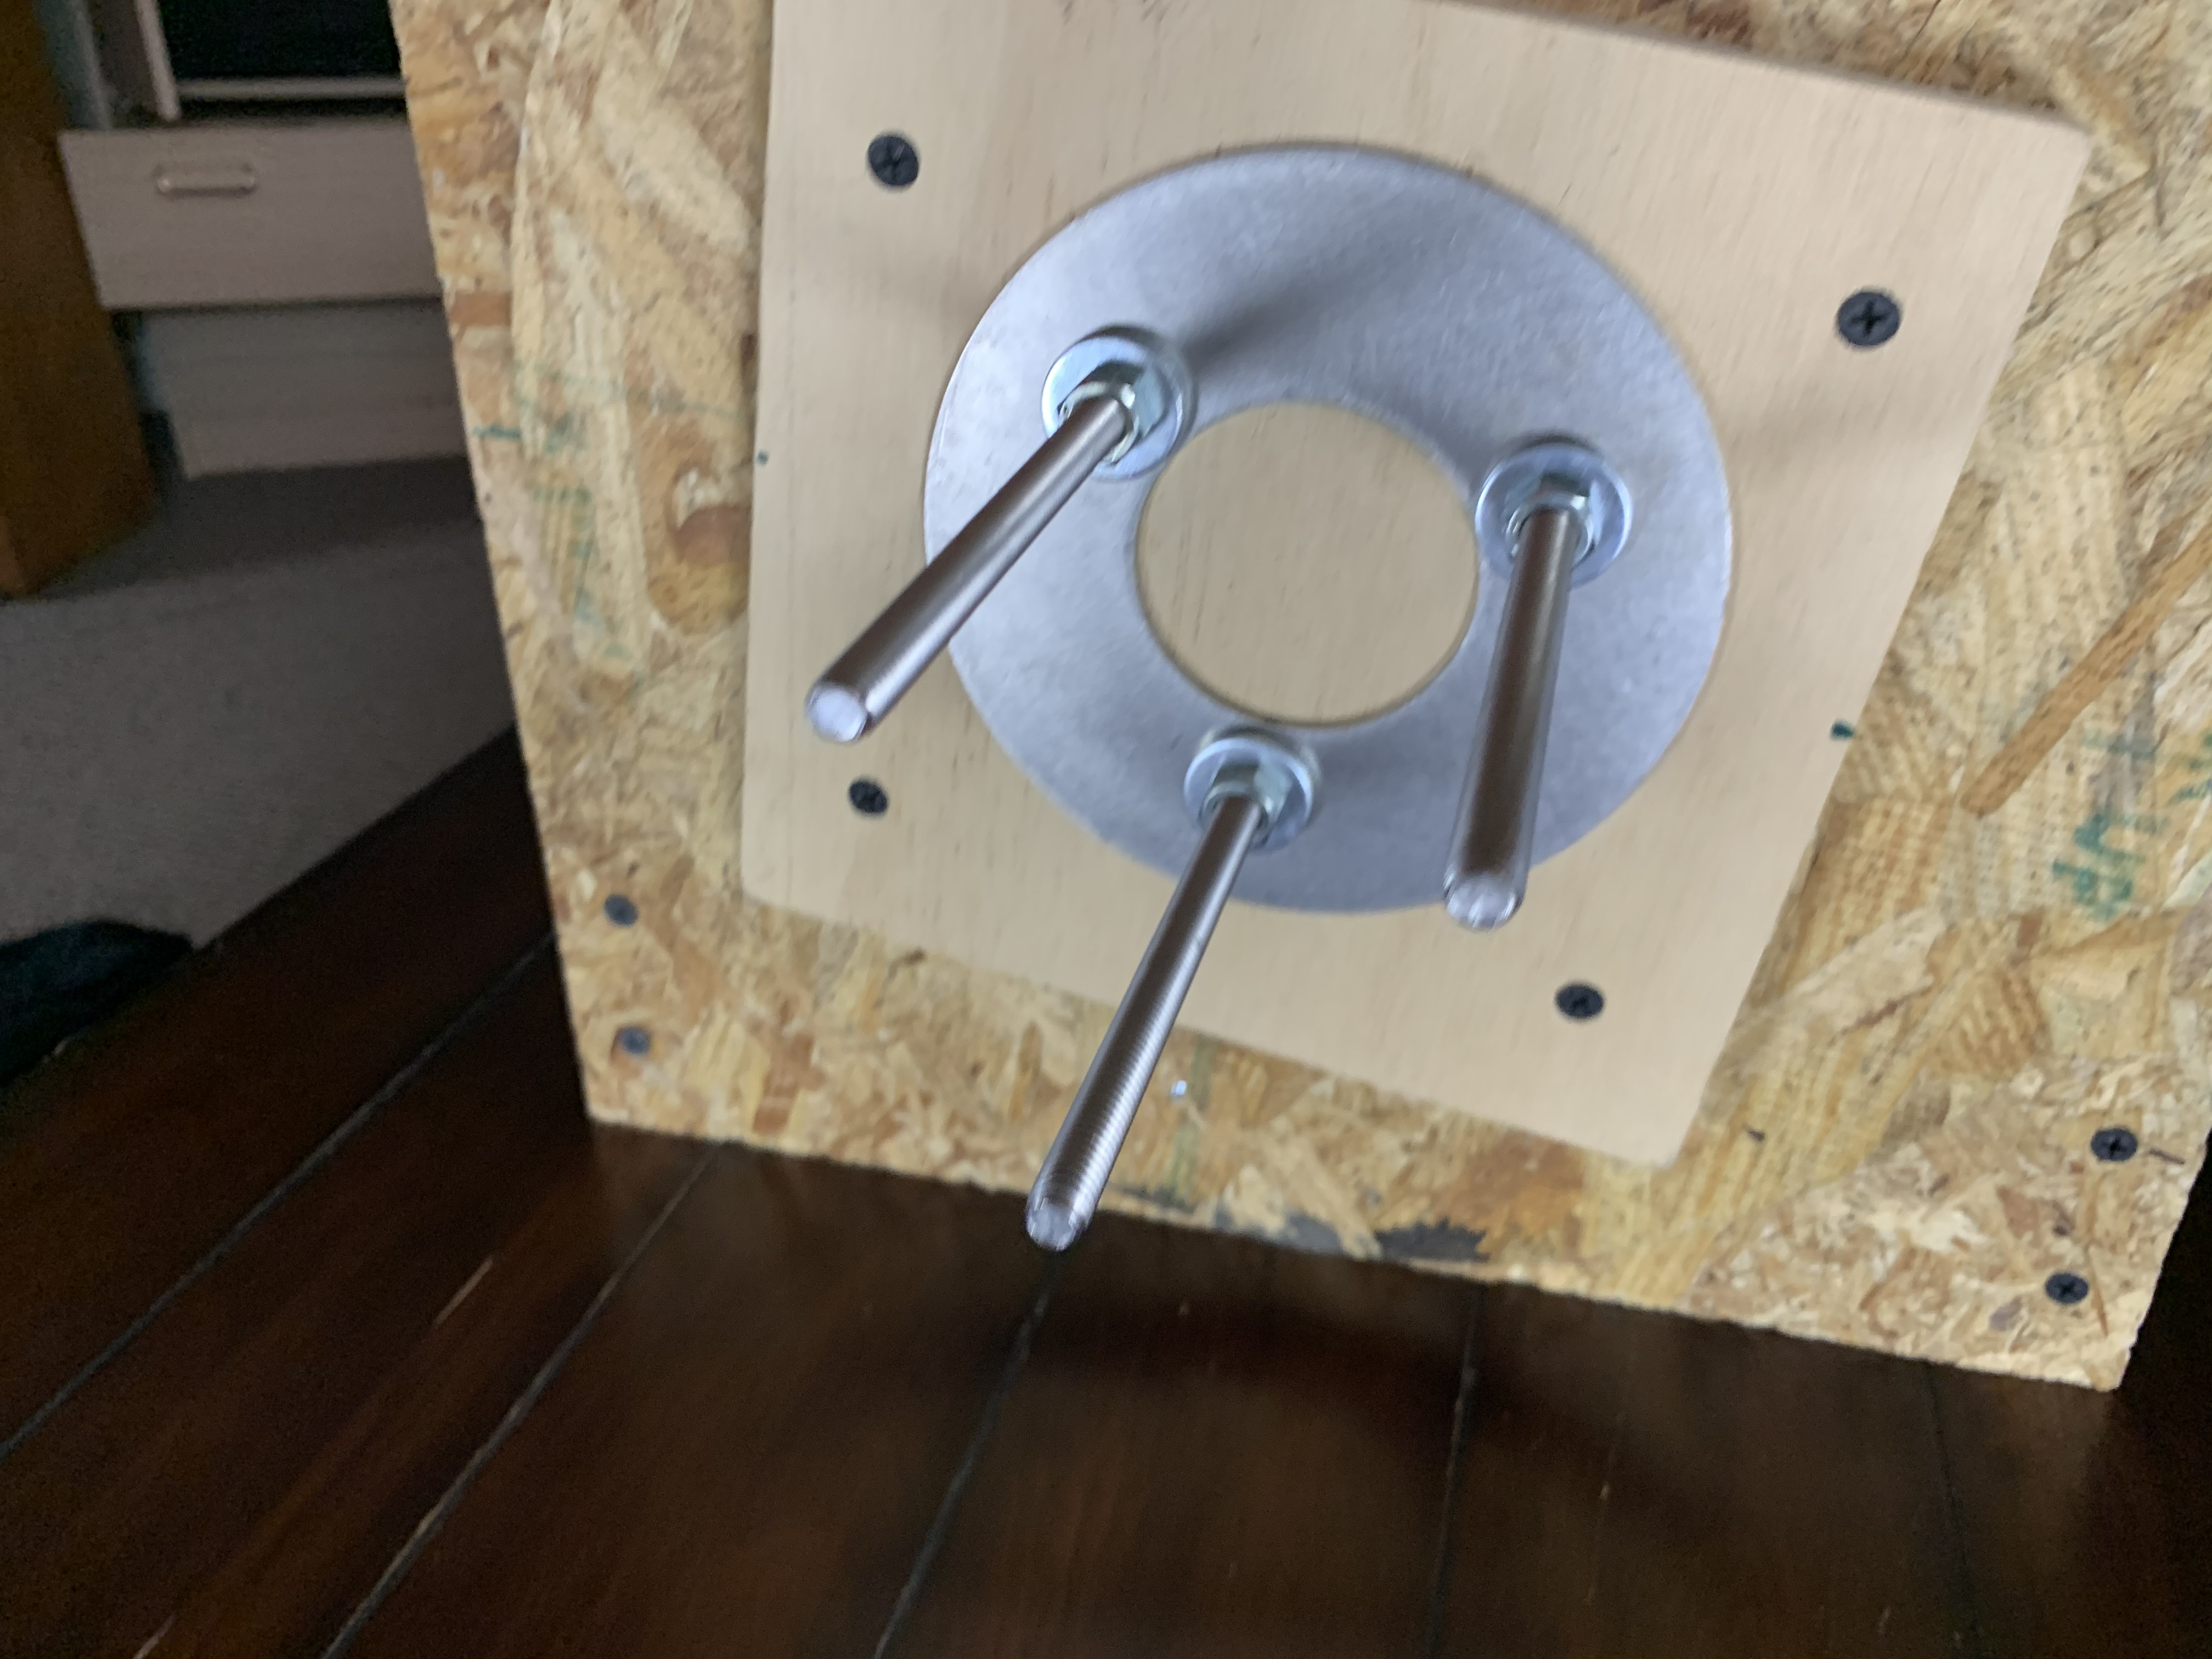bolt: (1472, 439, 1630, 592), (1035, 329, 1184, 477), (1179, 732, 1312, 849)
